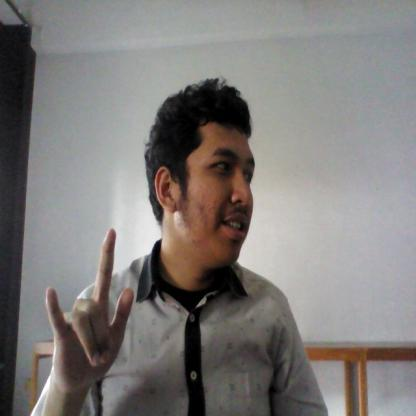ILoveYou: (38, 221, 139, 403)
